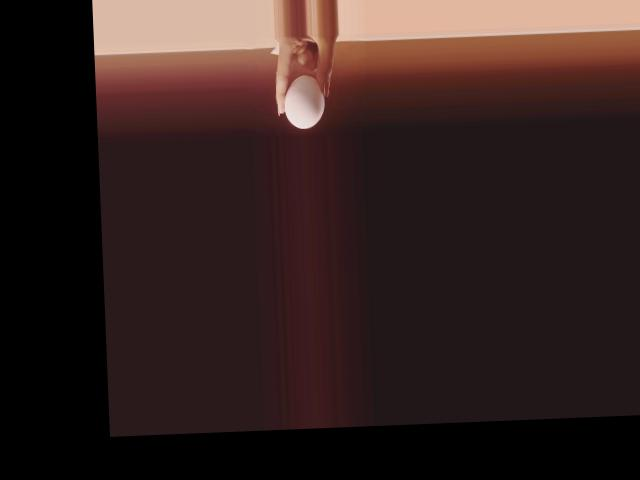egg: (283, 73, 326, 129)
